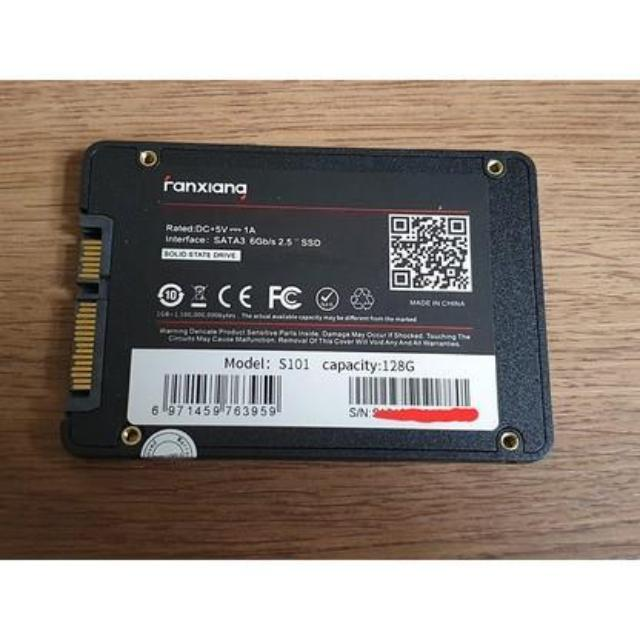DISK: (64, 134, 561, 472)
